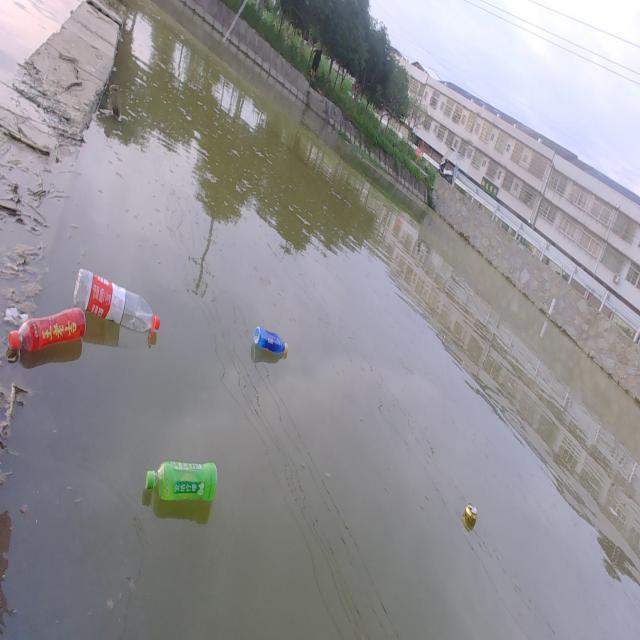bottle: (70, 250, 180, 351), (1, 293, 93, 367), (134, 451, 230, 515), (242, 308, 295, 368)
